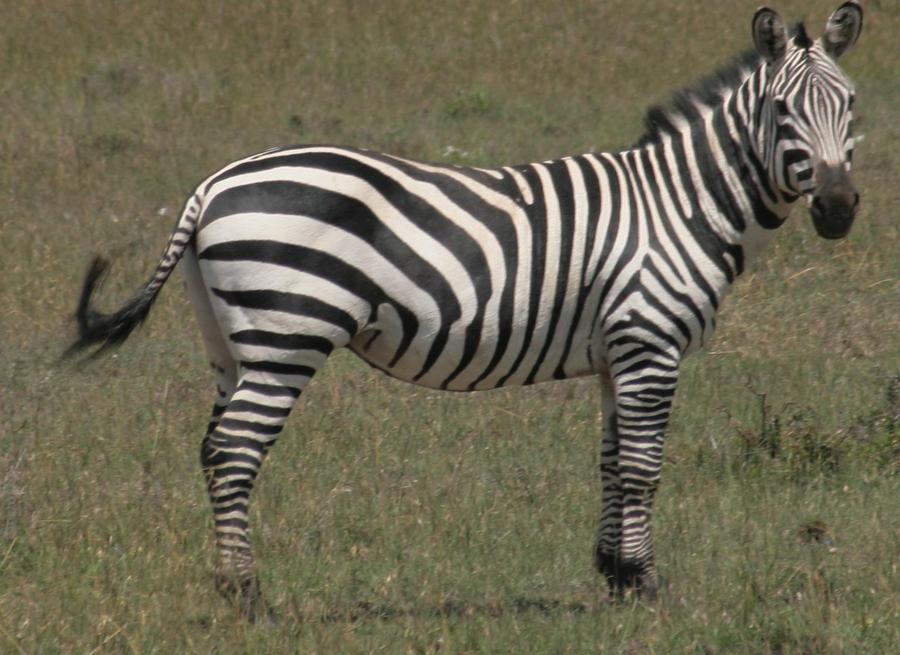zebra_plains: (183, 101, 753, 422)
